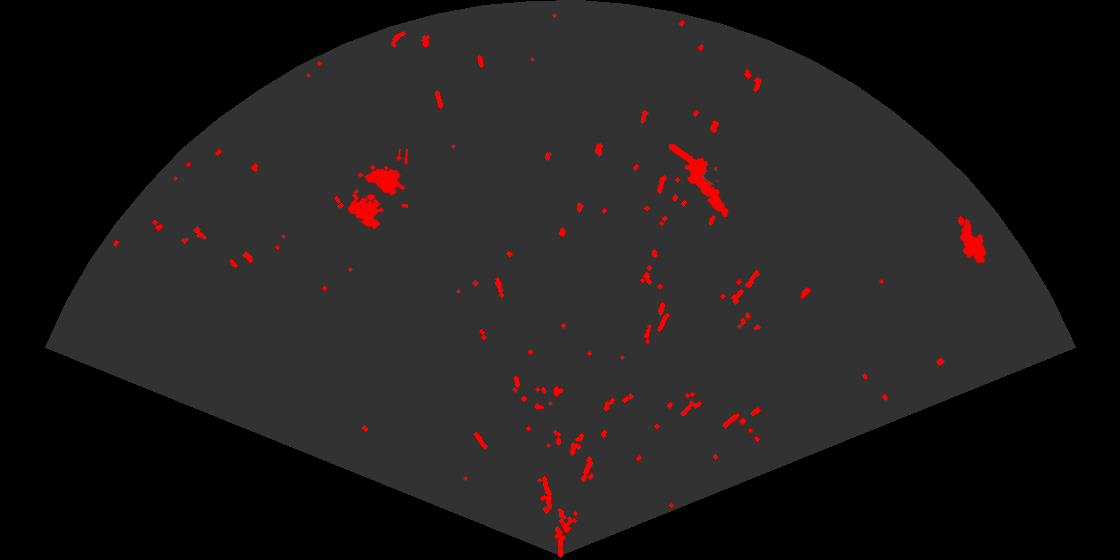AUV: (959, 217, 988, 266)
cage: (346, 149, 408, 231)
frogman: (669, 144, 730, 219)
